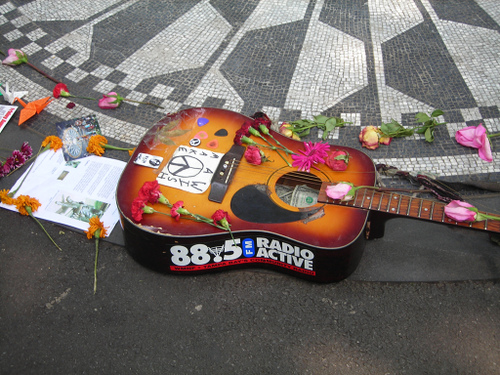guitar: (115, 105, 500, 286)
